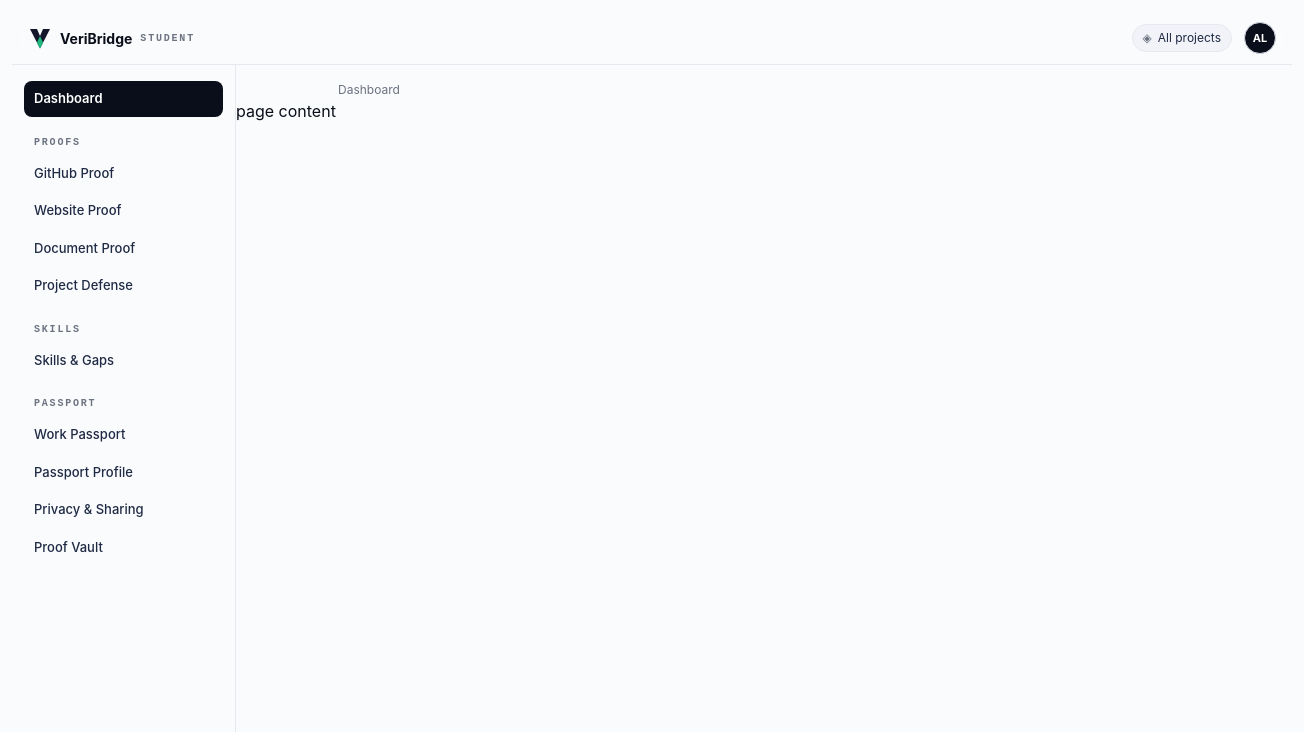
Scenario: profile menu and sign-out › shows persona identity plus Account and Settings links
This screenshot has width=1304, height=732.
Click the button with test id "student-shell-profile-toggle" at {"x": 1260, "y": 38}, box [1244,22,1276,54]
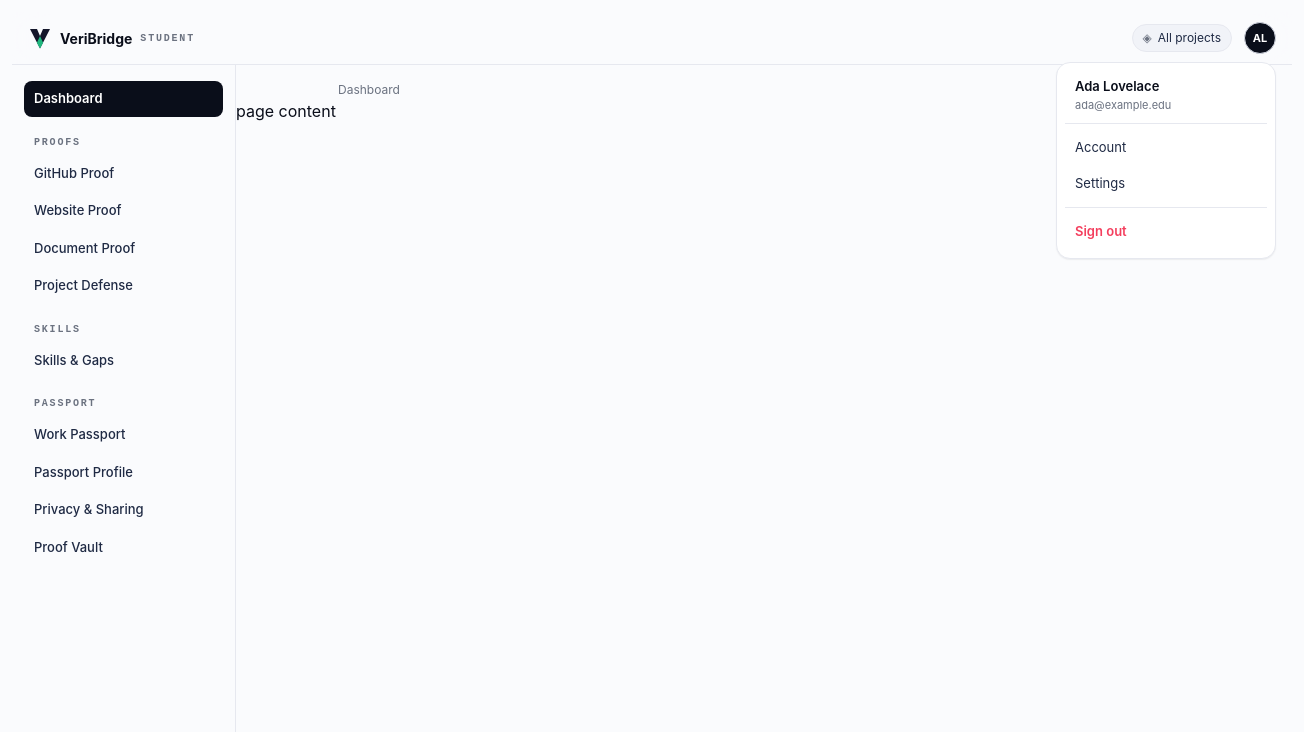
Check: the element with test id "student-shell-profile-menu" shows "Ada Lovelace", box [1075,78,1159,94]
Check: the element with test id "student-shell-profile-menu" shows "ada@example.edu", box [1075,98,1171,112]
